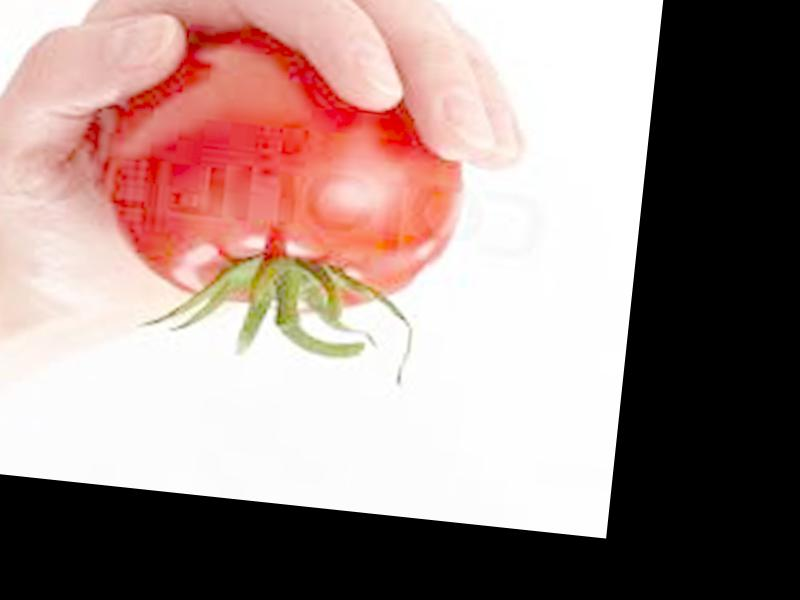Tomato: (98, 19, 476, 329)
